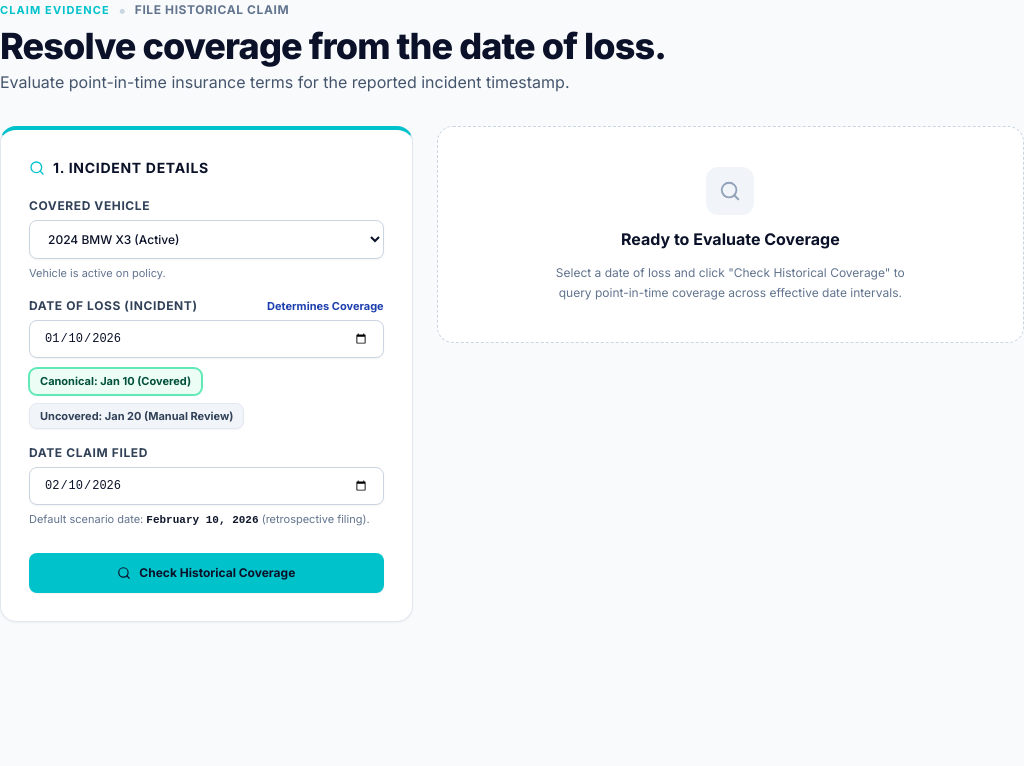
Test: FileClaimPage Component › displays REQUIRES_MANUAL_REVIEW and never shows Claim Denied when coverage is not found
Note: Select Jan 20 preset
Click the button "Uncovered: Jan 20 (Manual Review)" at coordinates (137, 416), box [29,402,244,429]
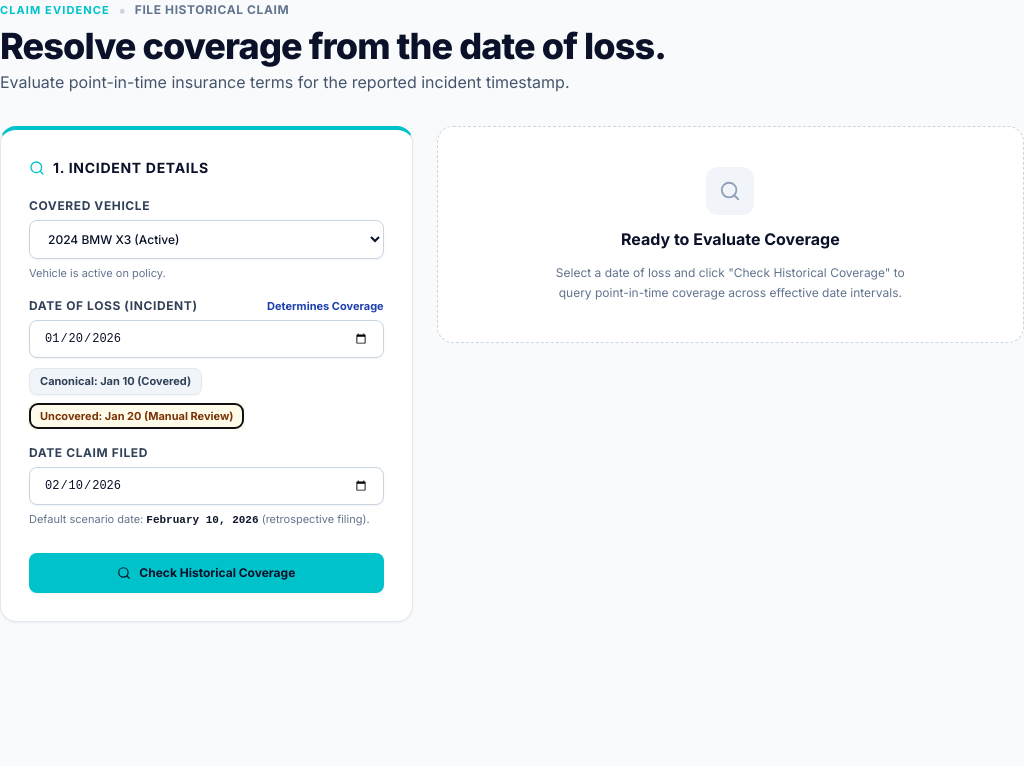
Click the button "Check Historical Coverage" at coordinates (206, 572), box [29,552,384,592]
(page scrolled)
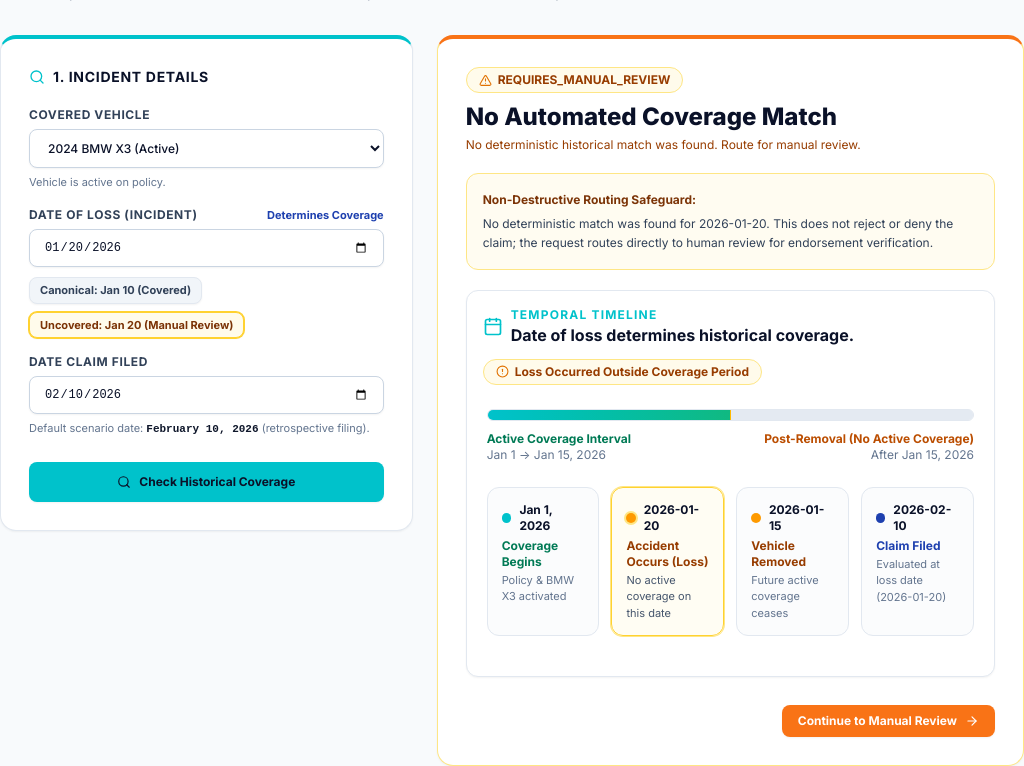
Expected: the text "REQUIRES_MANUAL_REVIEW" is shown, [466,67,683,93]
Expected: the heading "No Automated Coverage Match" is shown, [466,102,837,131]
Expected: the button "Continue to Manual Review" is shown, [782,705,995,737]
